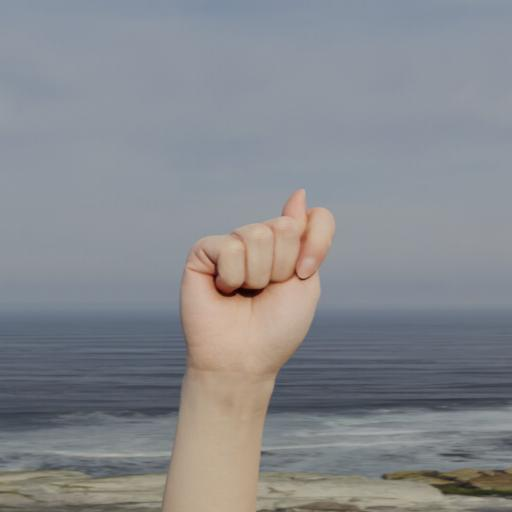T: (160, 180, 342, 405)
